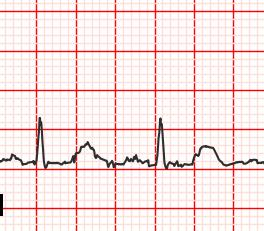LVH: (185, 142, 227, 168)
